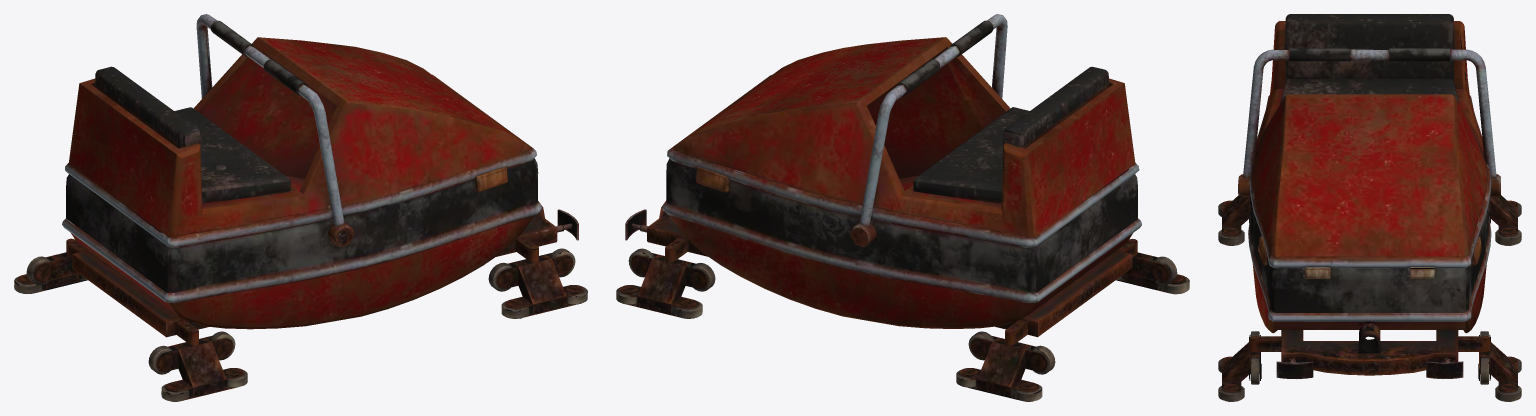
Rendered from coaster_car.glb.
The picture shows the model from 3 angles, left to right: view 1: azimuth 30°, elevation 25°; view 2: azimuth 150°, elevation 25°; view 3: azimuth 270°, elevation 25°; orthographic projection. The views are drawn at different scales.
Parts seen in each view (by area): view 1: baked; view 2: baked; view 3: baked.
Part boxes in pixels (x1,y1,x2,y2): baked: (14, 14, 587, 401); baked: (616, 14, 1189, 401); baked: (1218, 14, 1521, 401).
Size of the model in its own units: 2.14 by 1.17 by 1.35.
Materials: 1 (1 with a texture image).
